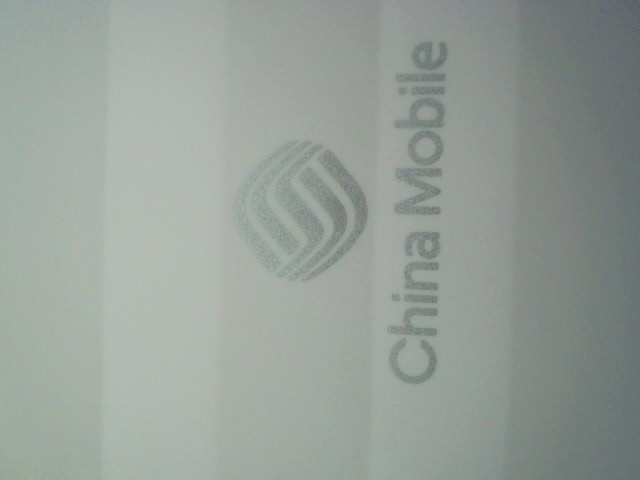ChinaMobile: (229, 10, 466, 391)
